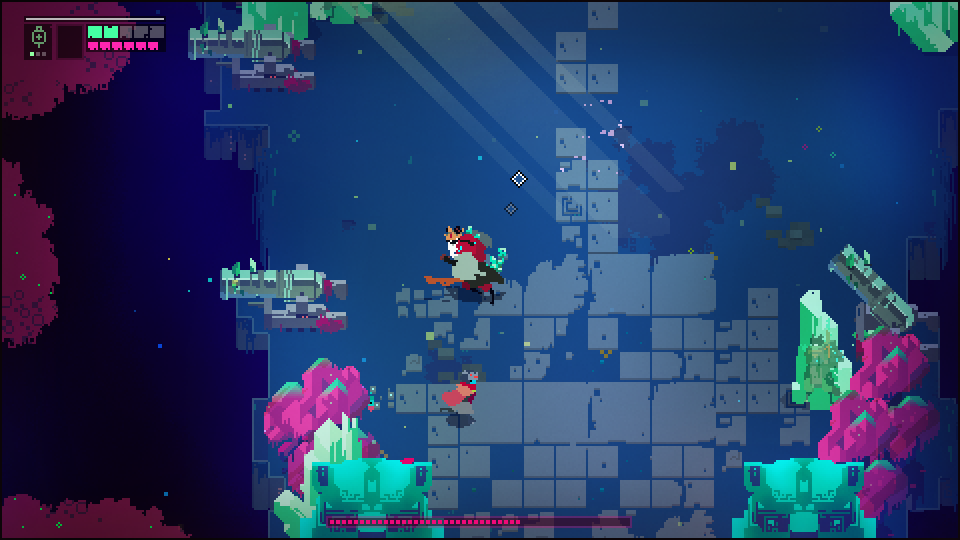hanged_man: (422, 224, 517, 308)
player: (442, 368, 479, 422)
